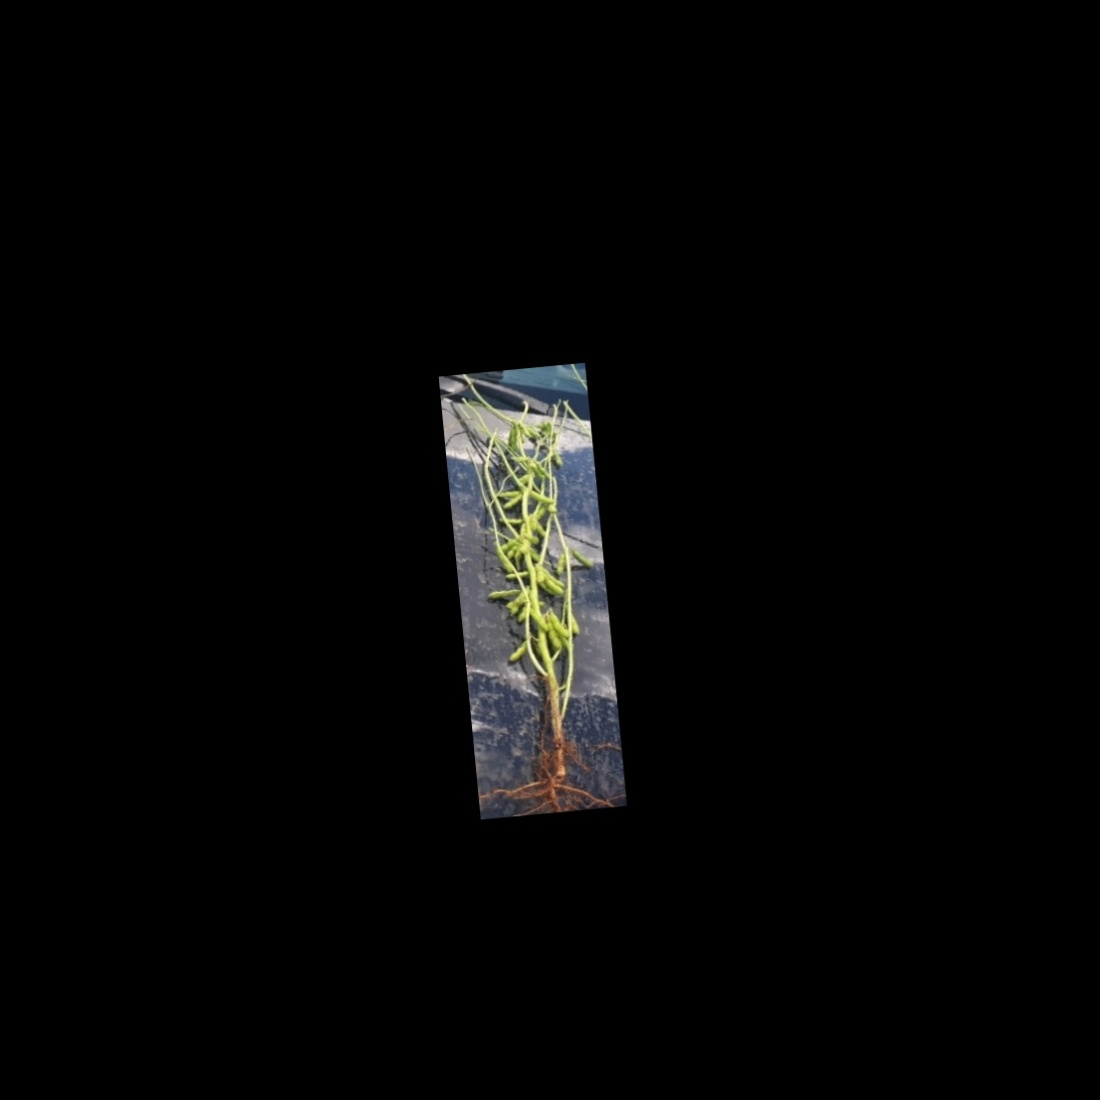pod: (523, 484, 557, 508), (546, 610, 571, 641), (498, 489, 528, 514), (483, 584, 523, 602), (568, 547, 596, 572), (505, 638, 530, 665), (543, 618, 563, 652), (508, 451, 533, 466), (549, 445, 564, 469)
soy: (454, 398, 618, 791)
